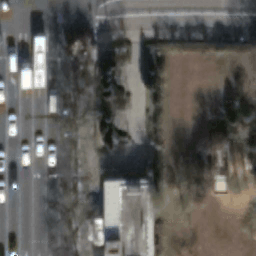car: (34, 35, 47, 89), (21, 60, 34, 90), (21, 143, 31, 168), (48, 142, 57, 168), (8, 114, 18, 137), (9, 49, 18, 74), (35, 134, 44, 158), (50, 89, 58, 113), (1, 1, 12, 14), (1, 181, 7, 204), (1, 150, 6, 172), (1, 82, 6, 104), (8, 250, 19, 256)
